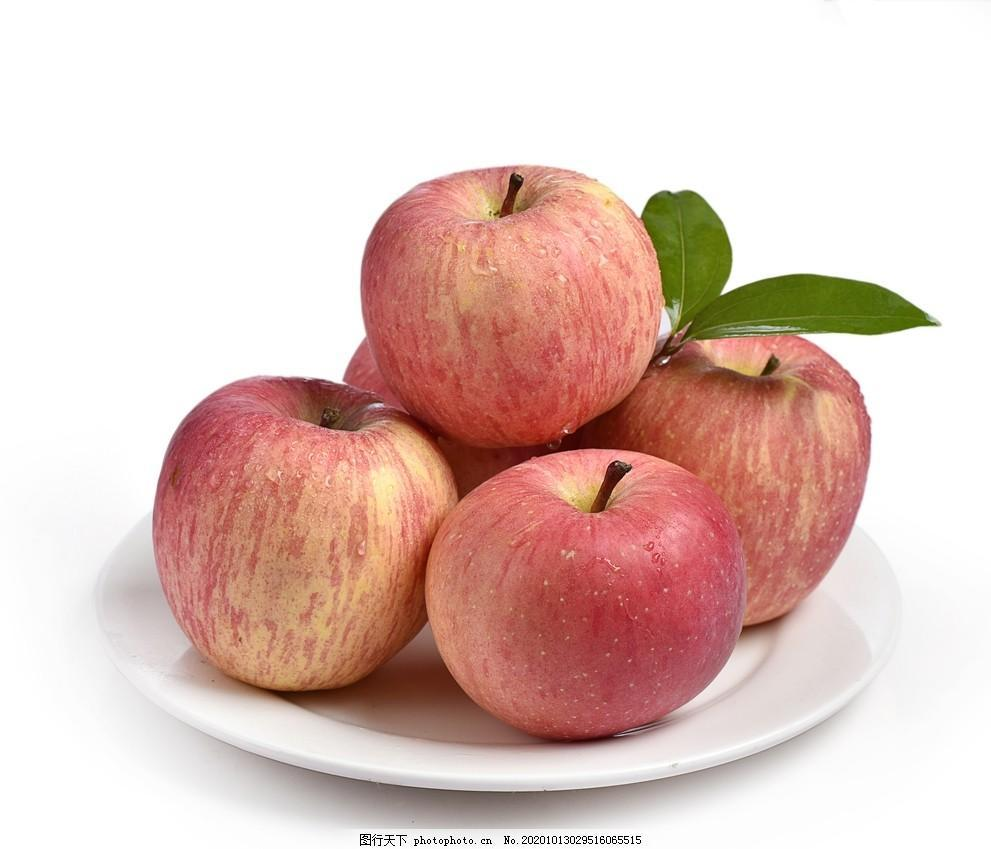apple: (153, 373, 459, 692), (428, 446, 740, 743), (357, 167, 666, 450), (593, 330, 866, 619)
